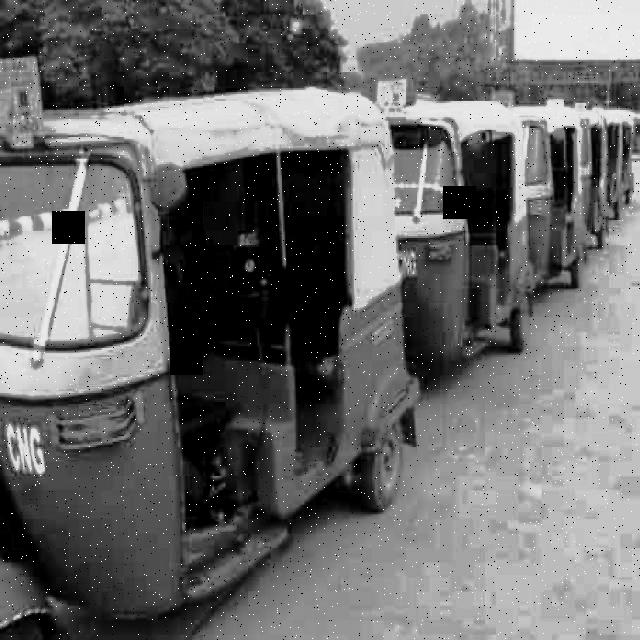Auto-Rickshaw: (2, 92, 418, 640), (378, 96, 538, 376), (505, 103, 589, 305), (571, 105, 629, 249)
